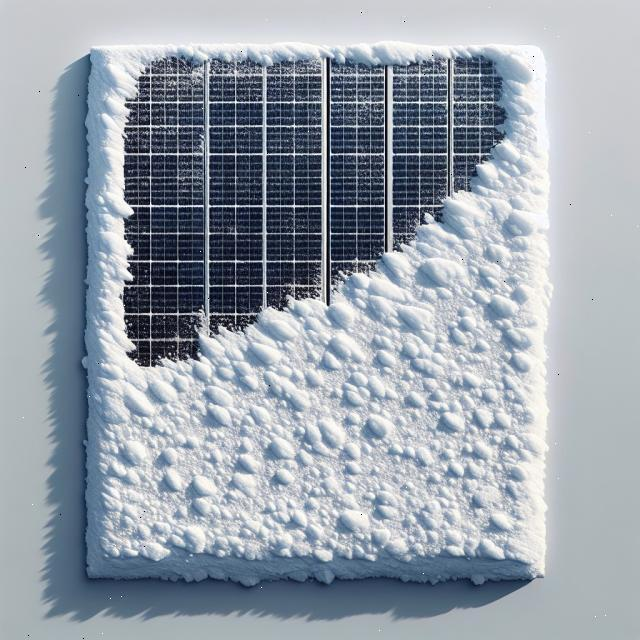Anomaly Solar Panel: (87, 46, 543, 578)
Snow: (88, 46, 543, 575)
